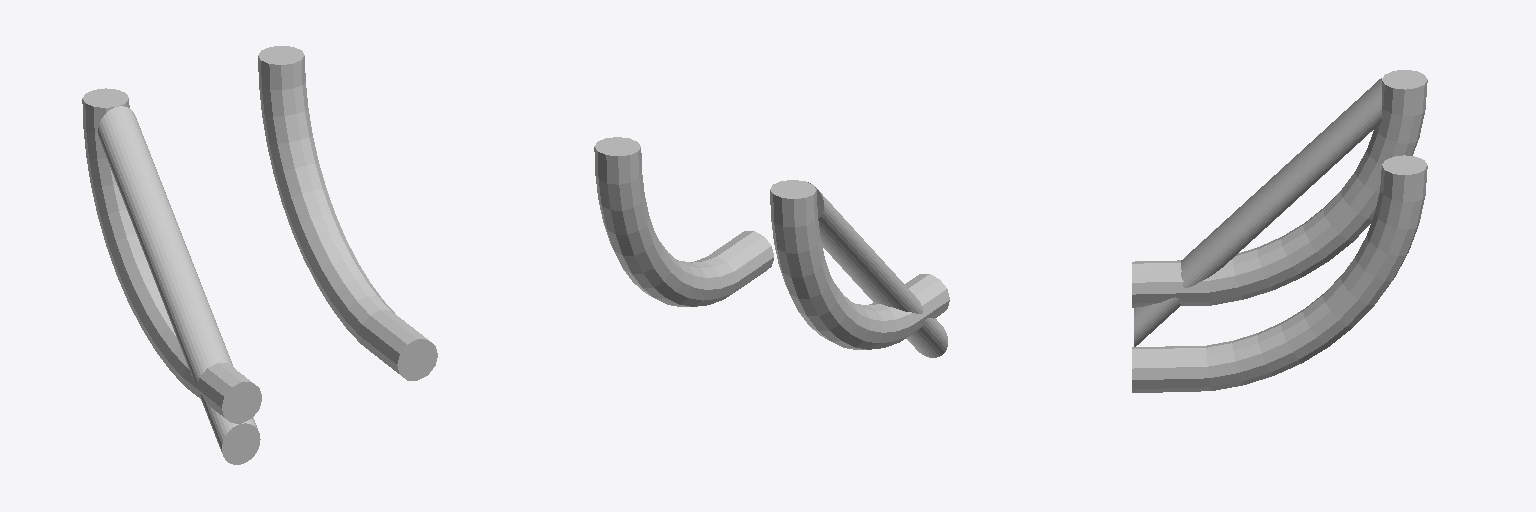
File: Rail Scoop.obj
3 renders of one model, left to right at view 1: azimuth 30°, elevation 25°; view 2: azimuth 150°, elevation 25°; view 3: azimuth 270°, elevation 25°, orthographic.
Visible parts, largest first — view 1: Torus.000_Torus.002, Cylinder.001_Cylinder.005, Torus.001; view 2: Torus.000_Torus.002, Torus.001, Cylinder.001_Cylinder.005; view 3: Torus.000_Torus.002, Torus.001, Cylinder.001_Cylinder.005.
Boxes of the visible parts, x1,y1,x2,y2 form: Torus.000_Torus.002: [258, 46, 437, 380]; Cylinder.001_Cylinder.005: [98, 106, 260, 464]; Torus.001: [82, 88, 261, 423]; Torus.000_Torus.002: [594, 137, 773, 306]; Torus.001: [770, 180, 949, 349]; Cylinder.001_Cylinder.005: [808, 182, 947, 357]; Torus.000_Torus.002: [1132, 155, 1427, 392]; Torus.001: [1132, 70, 1427, 307]; Cylinder.001_Cylinder.005: [1134, 78, 1381, 346].
Size of the model in its own units: 1 by 1.18 by 1.19.